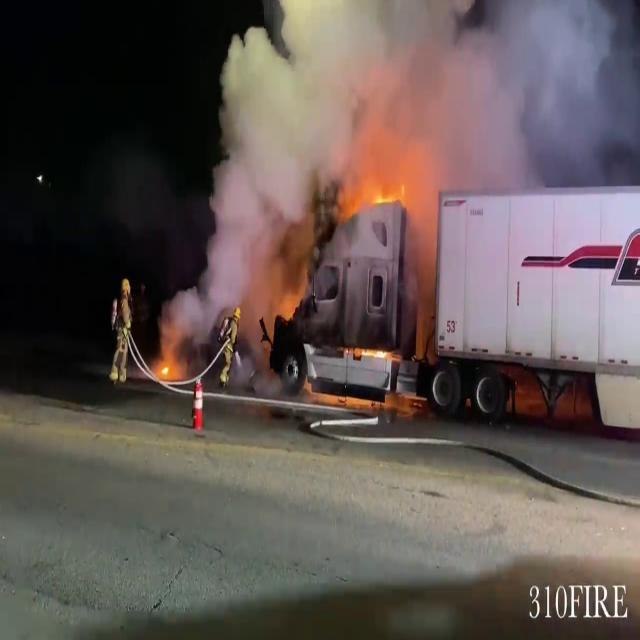Fire: (152, 348, 184, 389)
Smoke: (186, 0, 640, 225)
